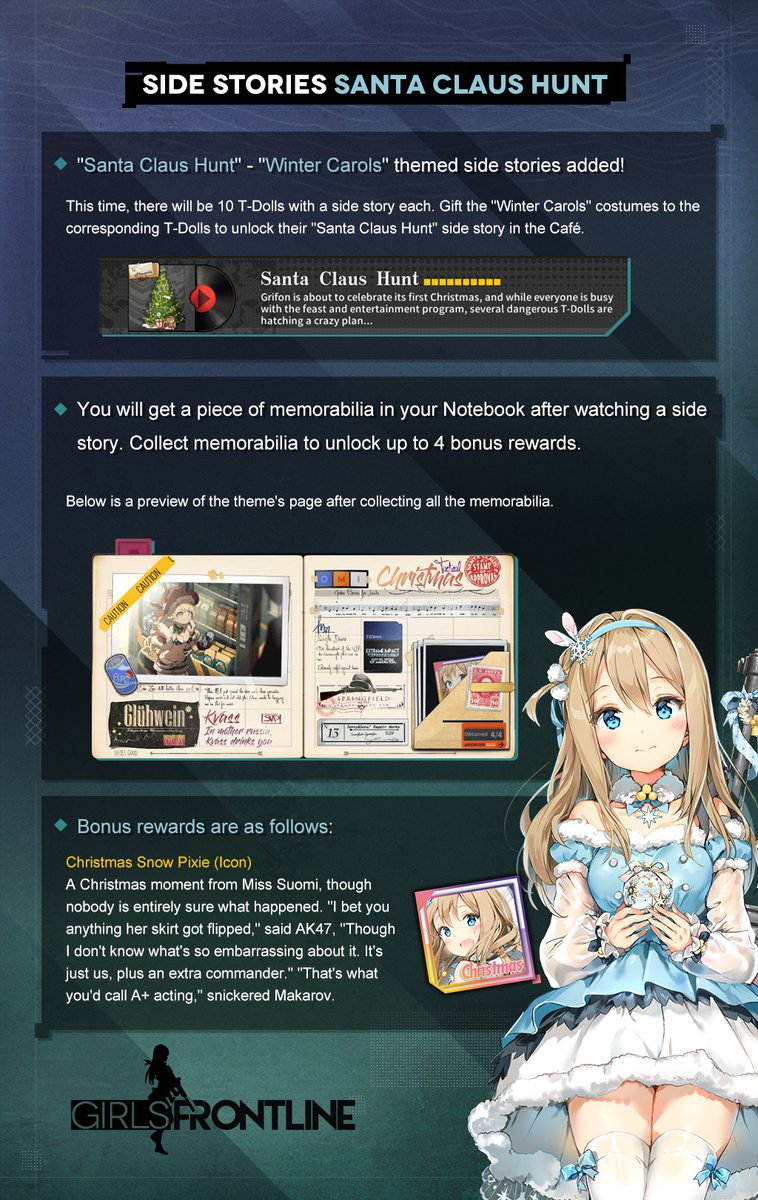latin: (62, 853, 397, 1010), (76, 394, 711, 458), (63, 192, 704, 243), (258, 267, 617, 328), (73, 148, 628, 185), (140, 64, 608, 107), (63, 487, 555, 514), (76, 813, 334, 841)
